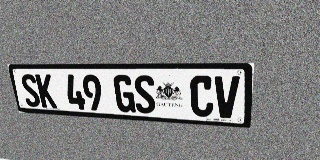4: (64, 74, 86, 110)
9: (81, 75, 104, 111)
C: (190, 76, 214, 117)
G: (113, 75, 136, 113)
K: (35, 74, 57, 108)
S: (133, 75, 156, 114), (19, 74, 42, 107)
V: (214, 76, 240, 119)
